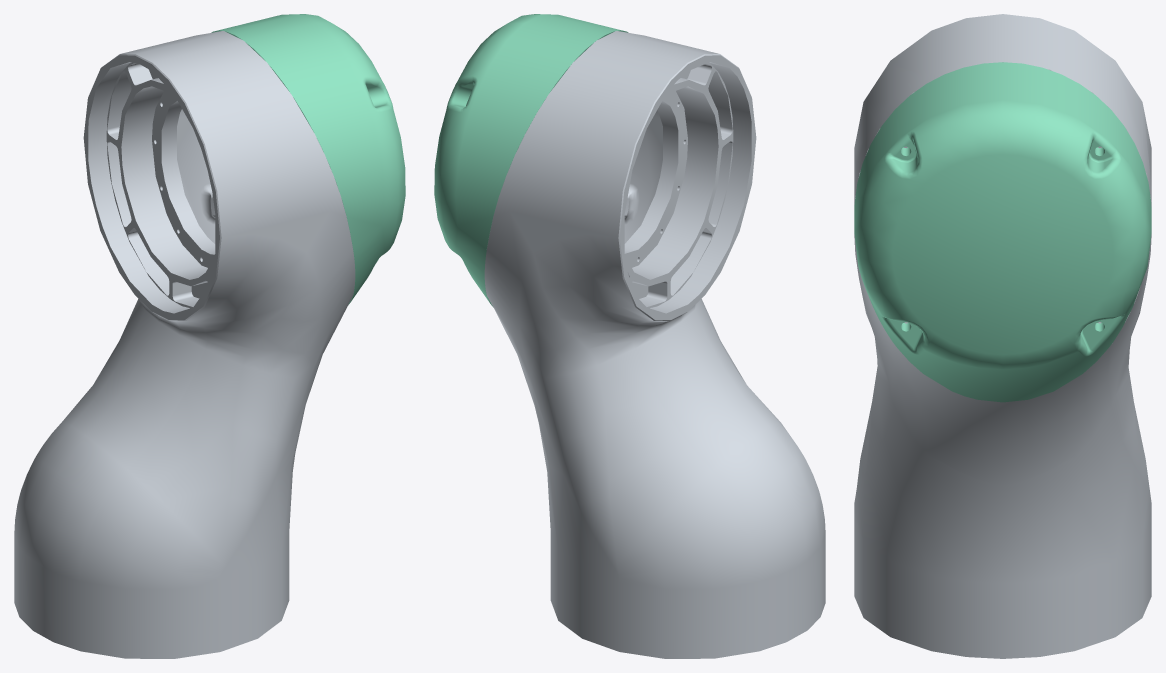
Rendered from coro_7_link3.dae.
3 views of the same model, side by side, from view 1: azimuth 30°, elevation 25°; view 2: azimuth 150°, elevation 25°; view 3: azimuth 270°, elevation 25° (orthographic). The views are drawn at different scales.
Visible parts, largest first — view 1: __007; view 2: __007; view 3: __007.
Part boxes in pixels (bbox=[...]): __007: bbox=[14, 14, 405, 658]; __007: bbox=[434, 14, 825, 658]; __007: bbox=[854, 14, 1151, 658].
Bounding box in the file's own units: 0.1726 × 0.125 × 0.27.
